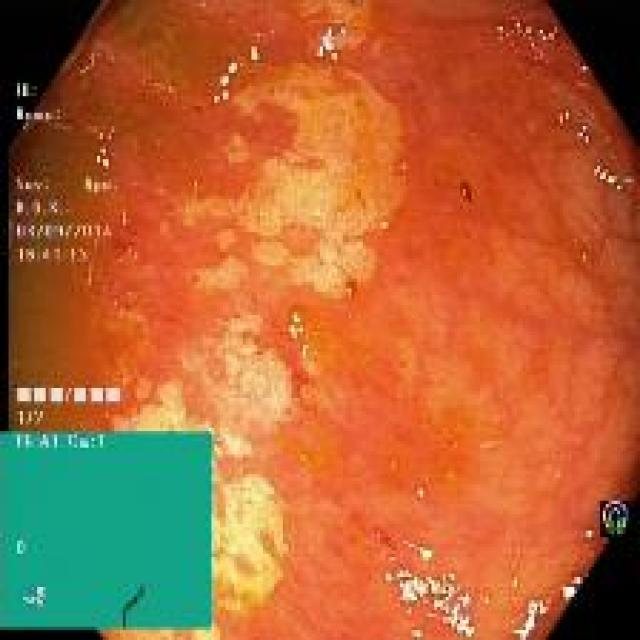ulcerative-colitis-grade-1: (10, 1, 640, 638)
